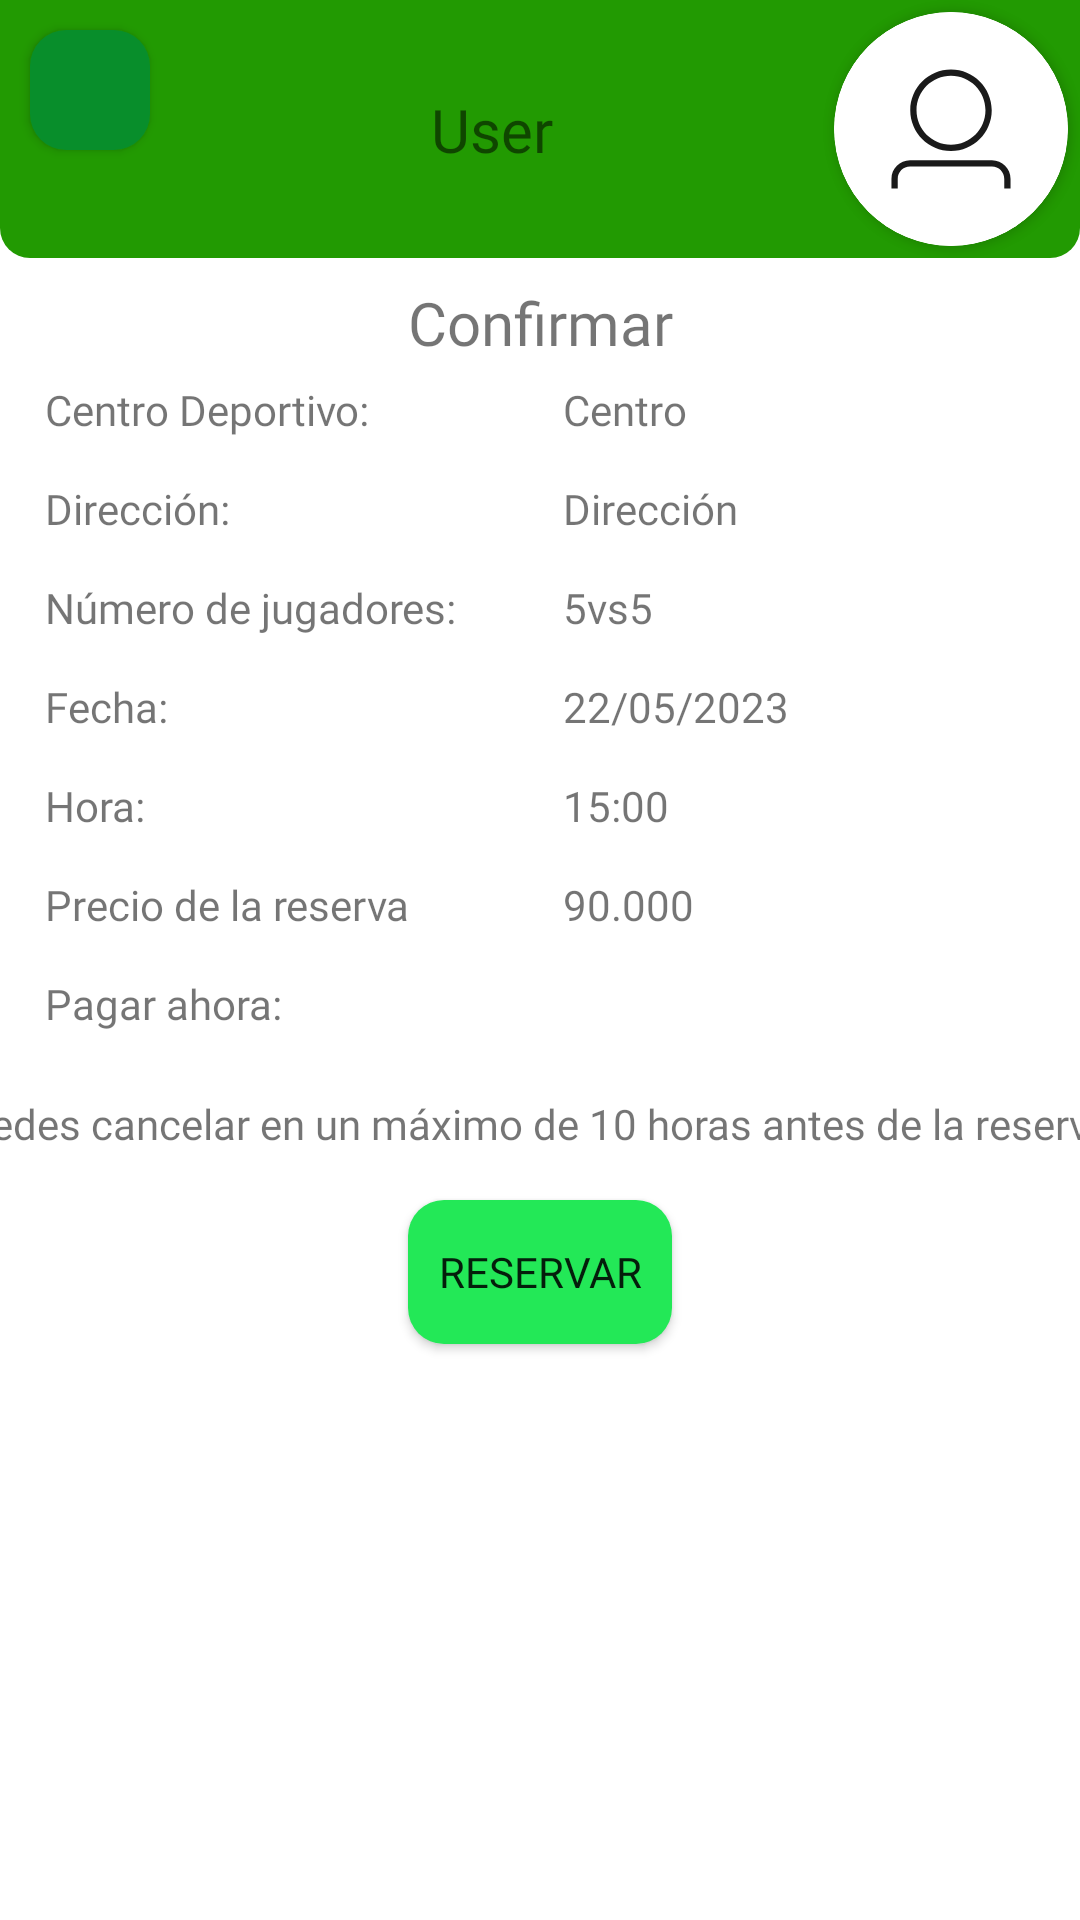

Icons on this 1080*1920 Android screen, each with the point to tap as (x=x, y=y):
user: (x=951, y=129)
